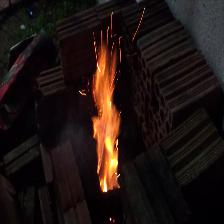fire: (75, 16, 140, 201)
